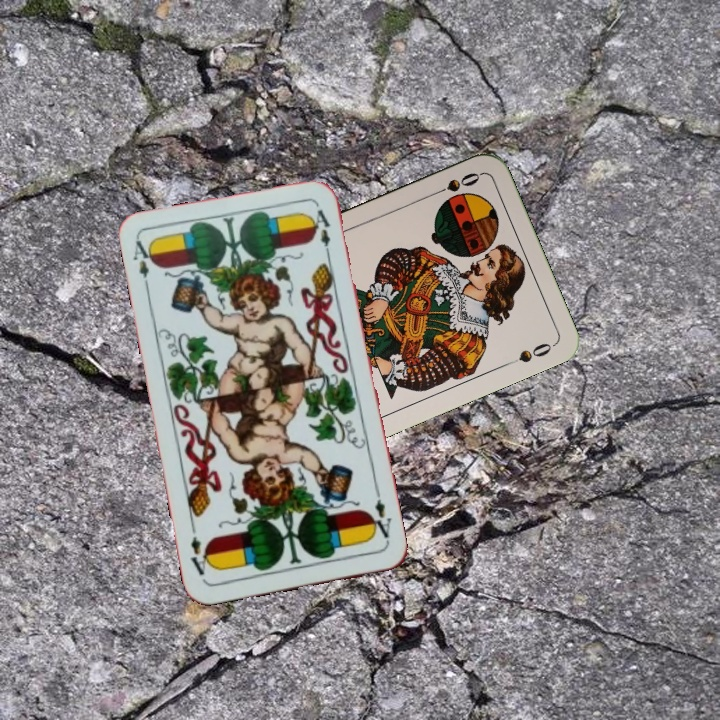EA: (365, 487, 394, 546), (129, 236, 158, 295)
SO: (427, 168, 483, 199)
